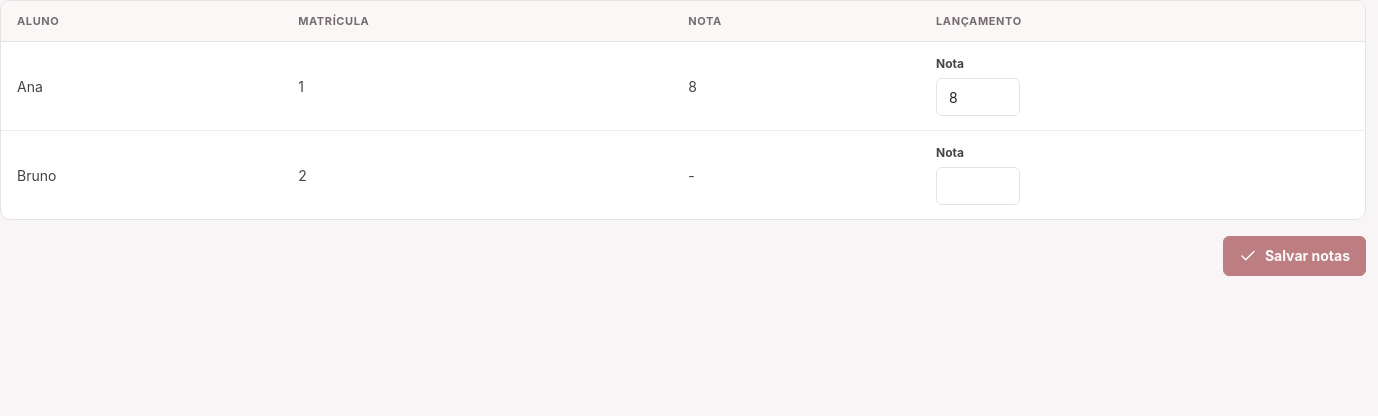
Test case: GradeRosterForm › consolida erros parciais e segue com as demais linhas
The image size is (1378, 416).
Replace the text in the number field named "Nota de Ana" with "9" at (978, 97), box [936,78,1020,116]
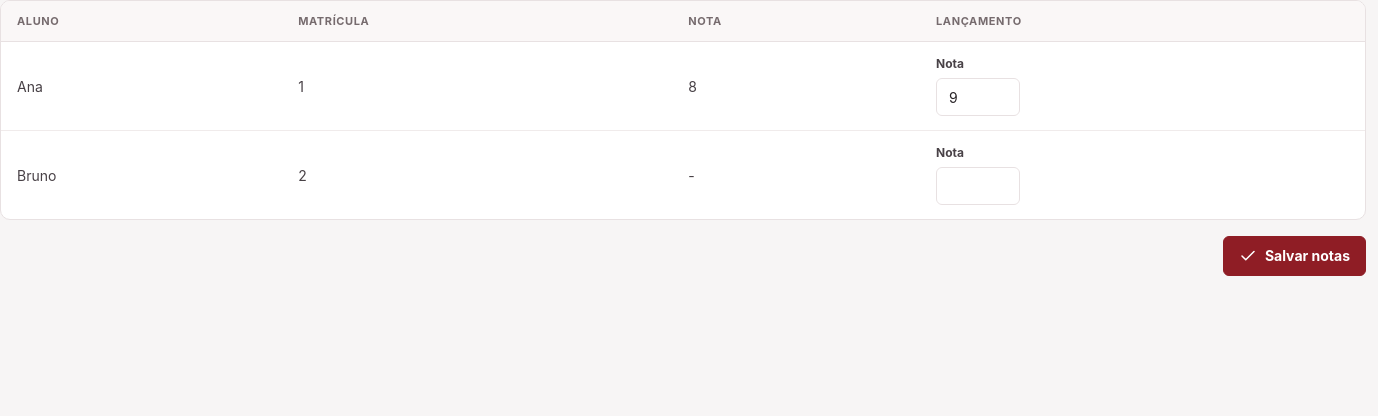
Type "7" into the number field named "Nota de Bruno" at (978, 186), box [936,167,1020,205]
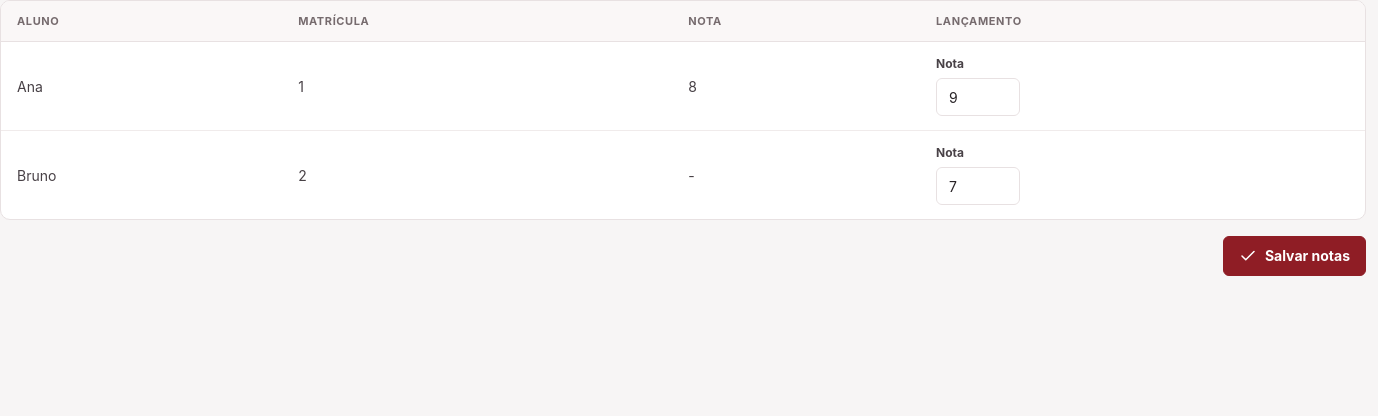
Click the button "Salvar notas" at (1294, 256), box [1223,236,1366,276]
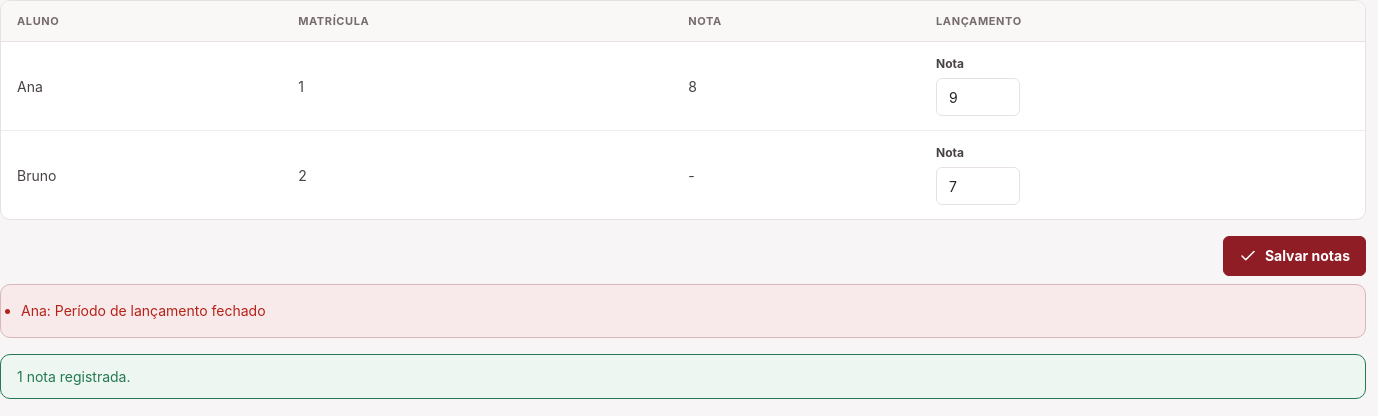
Check: the list item "Ana: Período de lançamento fechado" is shown, box [21,302,266,319]
Check: the text "1 nota registrada." is shown, box [0,354,1366,399]
